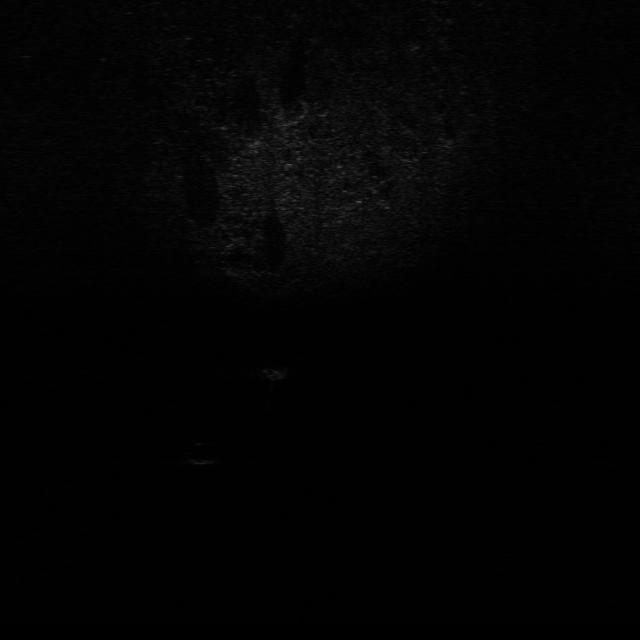ball: (181, 433, 223, 467)
cube: (261, 358, 303, 383)
